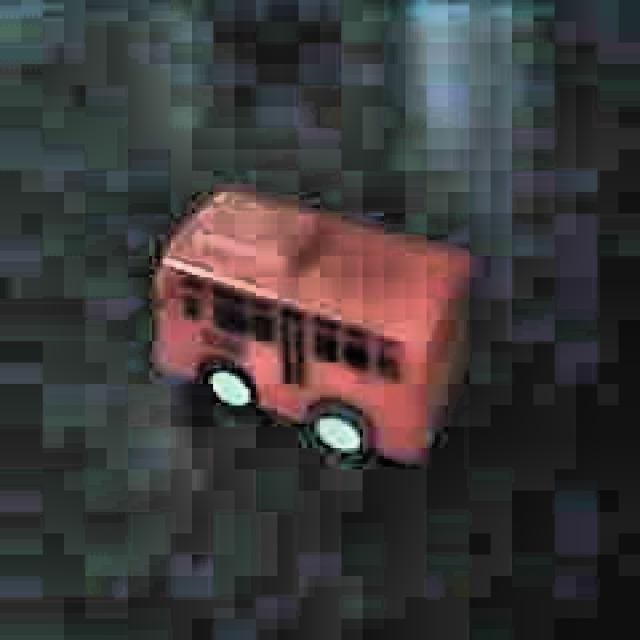bus: (140, 187, 477, 467)
